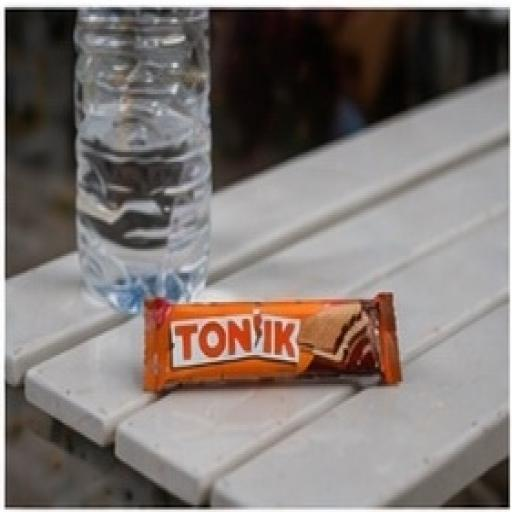tonik: (70, 97, 426, 438)
